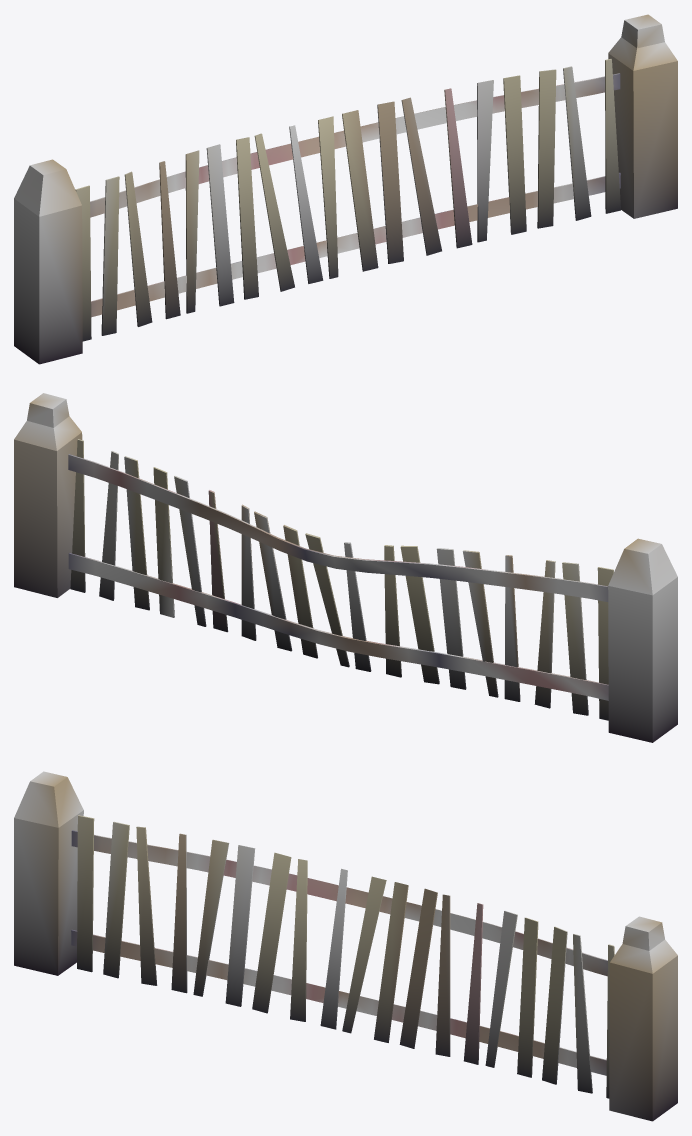
Rendered from French_2.fbx.
The picture shows the model from 3 angles, top to bottom: view 1: azimuth 30°, elevation 25°; view 2: azimuth 150°, elevation 25°; view 3: azimuth 330°, elevation 25°; orthographic projection.
Visible parts, largest first — view 1: Fence2; view 2: Fence2; view 3: Fence2.
Part boxes in pixels (x1,y1,x2,y2): Fence2: [14, 14, 677, 364]; Fence2: [14, 393, 677, 742]; Fence2: [14, 771, 677, 1121].
Size of the model in its own units: 438 by 122 by 47.43.
